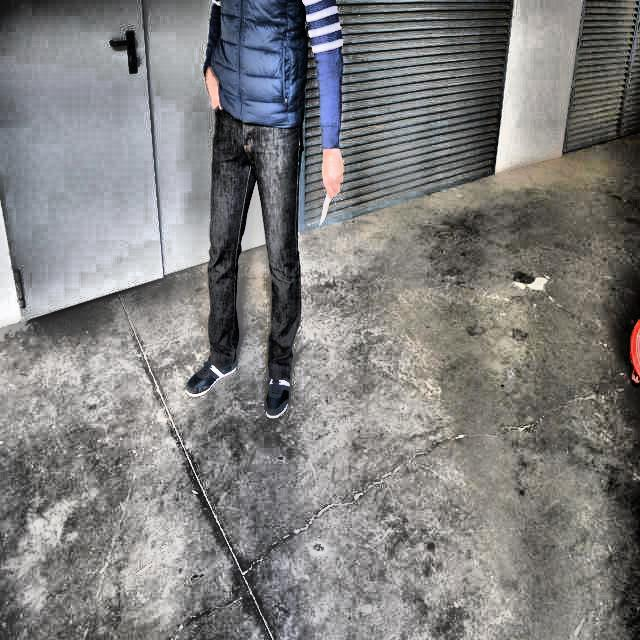knife: (319, 193, 332, 224)
